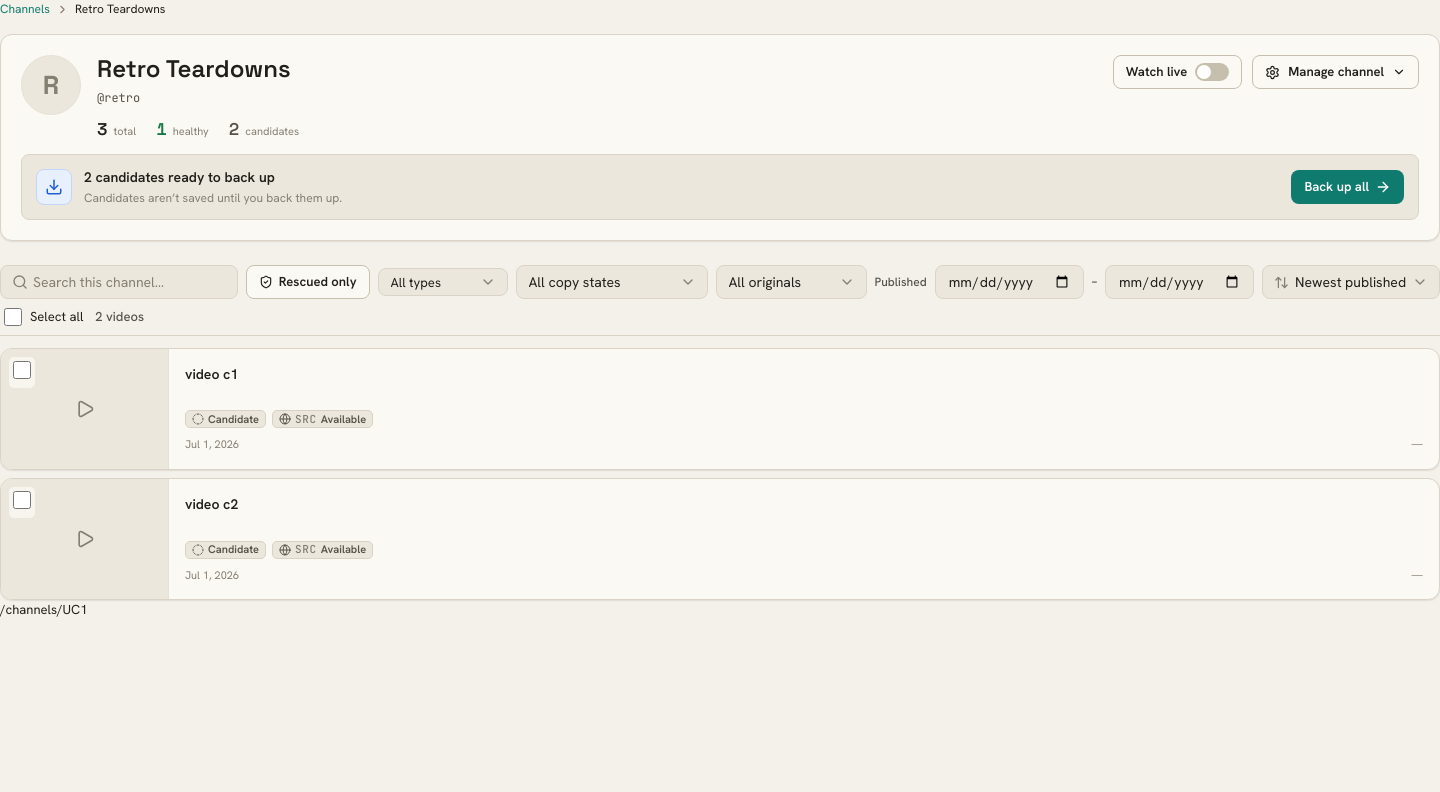
Test: ChannelDetailPage › gates unregister behind a confirm, then soft-deletes
Click the button "Manage channel" at (1336, 72), box x1=1252 y1=55 x2=1419 y2=89
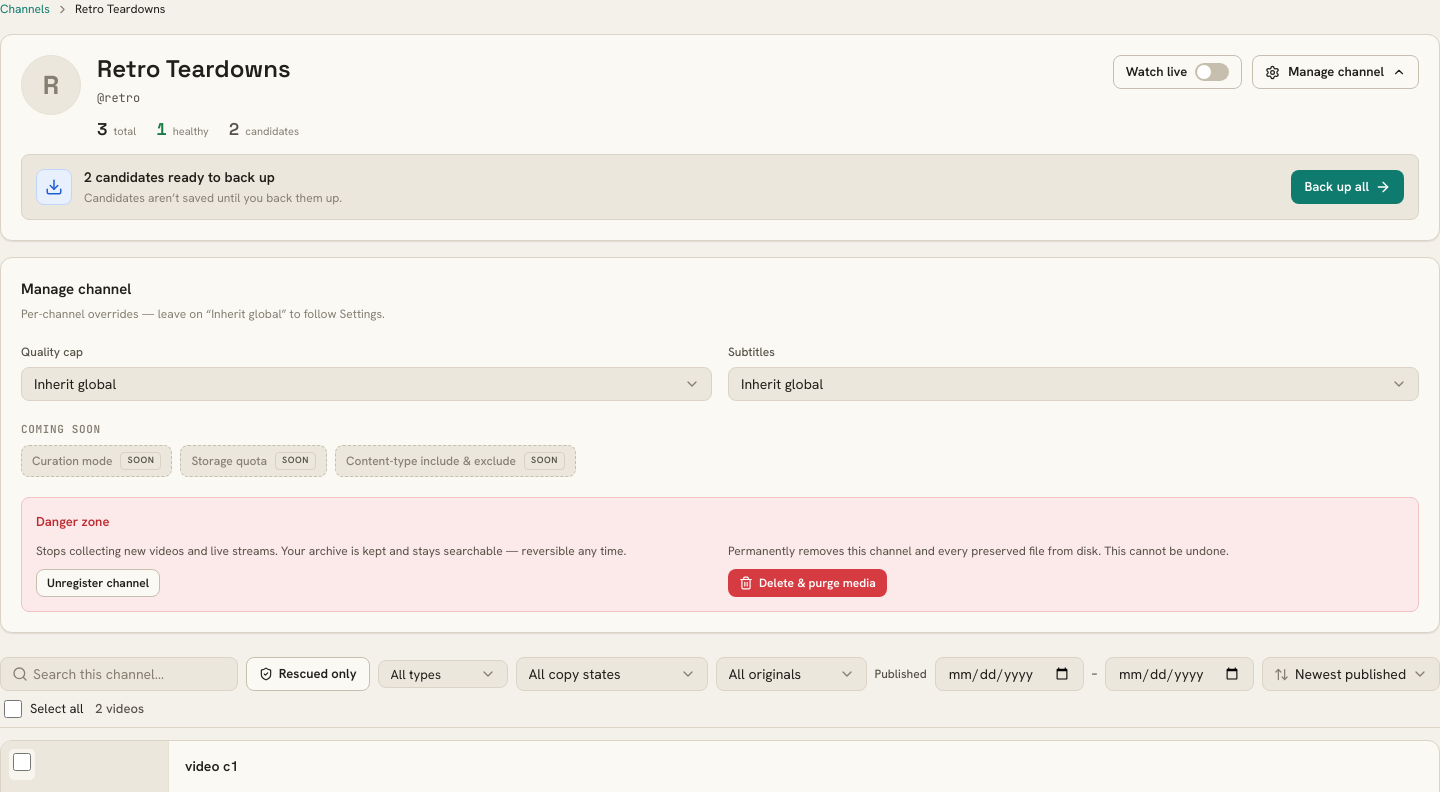
Click the button "Unregister channel" at (98, 583), box x1=36 y1=569 x2=160 y2=597
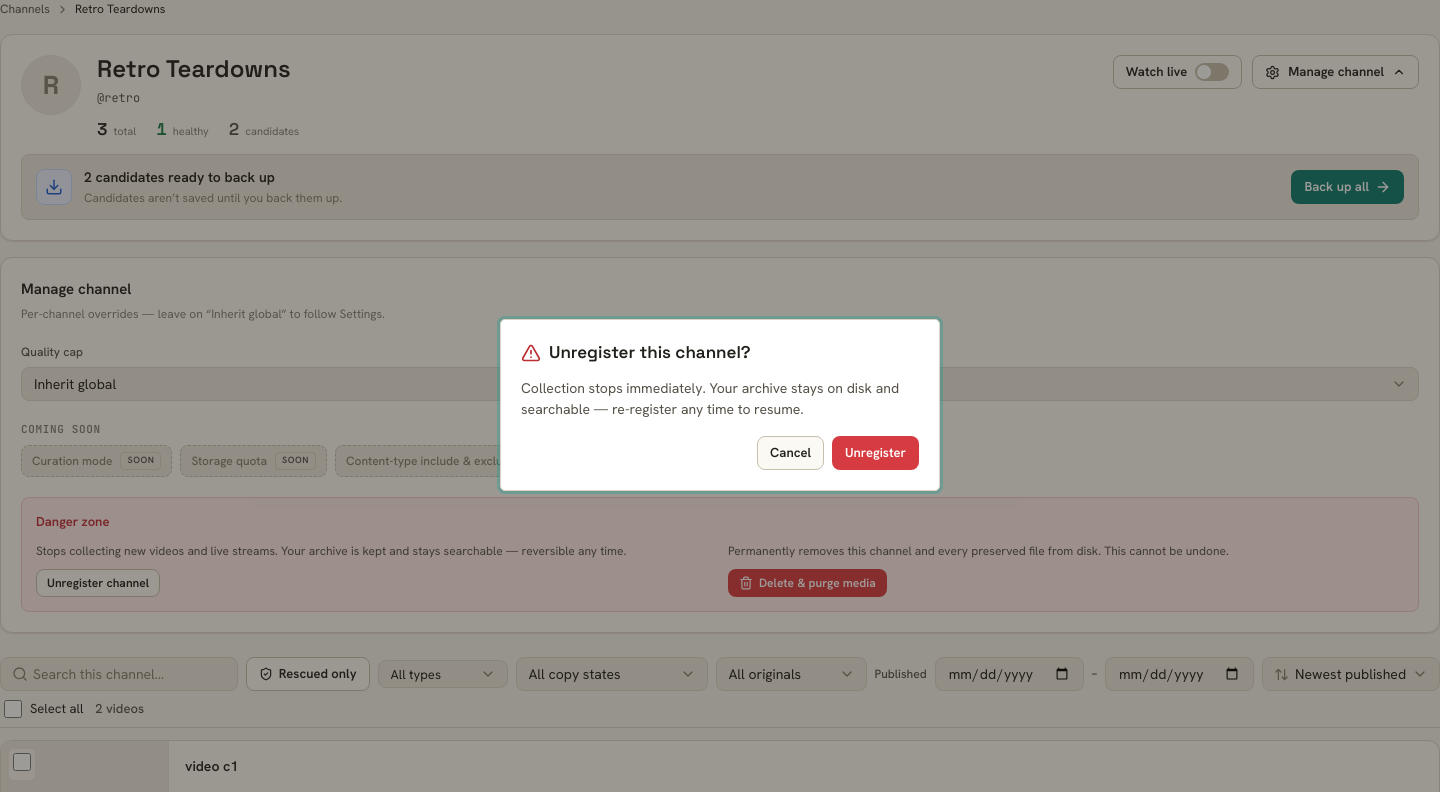
# confirm dialog
Click the button "Unregister" at (876, 453), box x1=832 y1=436 x2=919 y2=470
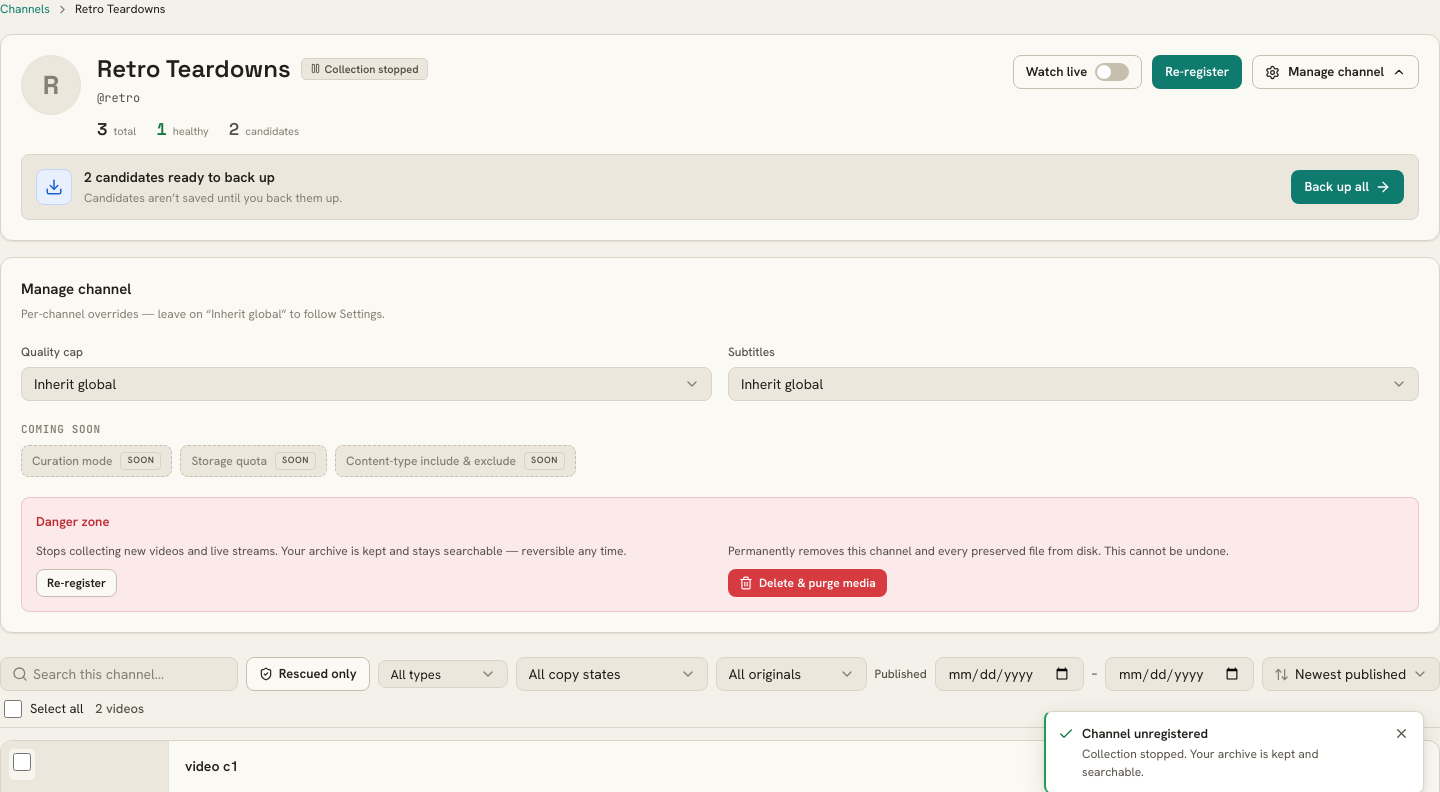
Now the text "Channel unregistered" is shown, box x1=1082 y1=724 x2=1208 y2=742
